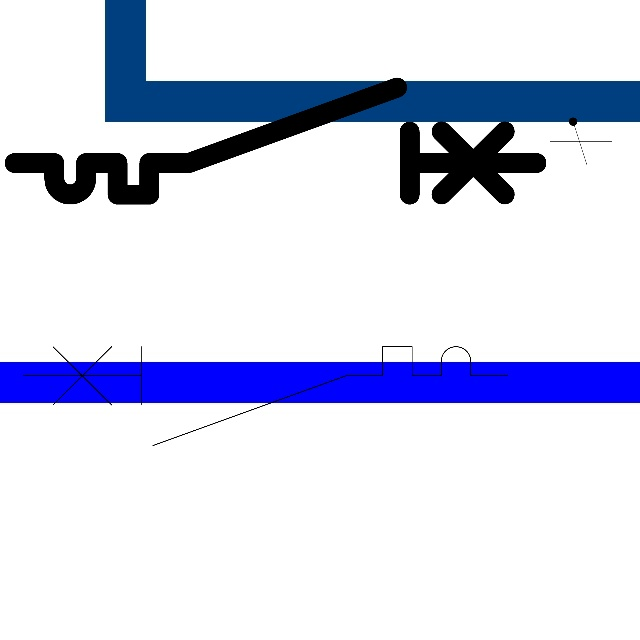interruptor_termomagnetico: (1, 74, 549, 208), (11, 334, 520, 458)
